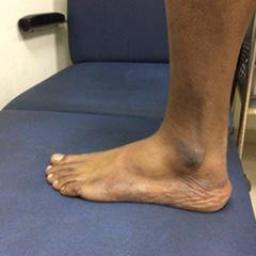Lateral View -Left Foot-: (38, 111, 236, 225)
